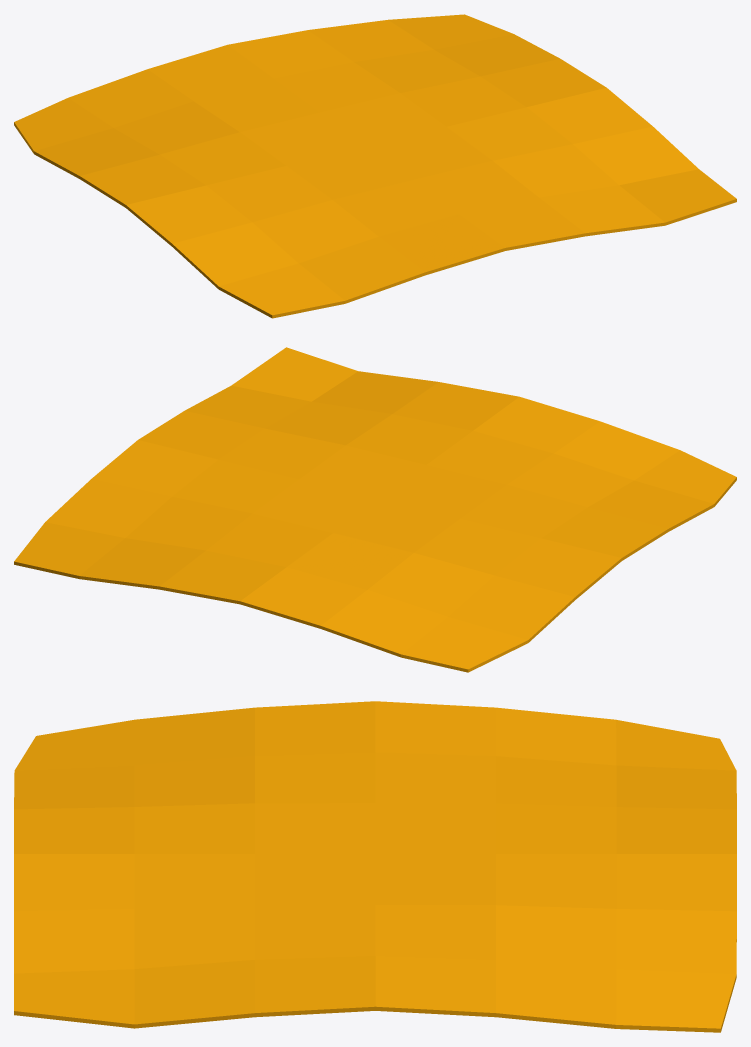
The model's file is Cheese.fbx.
3 renders of one model, top to bottom at view 1: azimuth 30°, elevation 25°; view 2: azimuth 150°, elevation 25°; view 3: azimuth 270°, elevation 25°, orthographic. The views are drawn at different scales.
Parts seen in each view (by area): view 1: Plane; view 2: Plane; view 3: Plane.
Part boxes in pixels (x1,y1,x2,y2): Plane: (14,14,736,318); Plane: (14,347,736,672); Plane: (14,701,736,1032).
Size of the model in its own units: 173 by 8.47 by 173.
